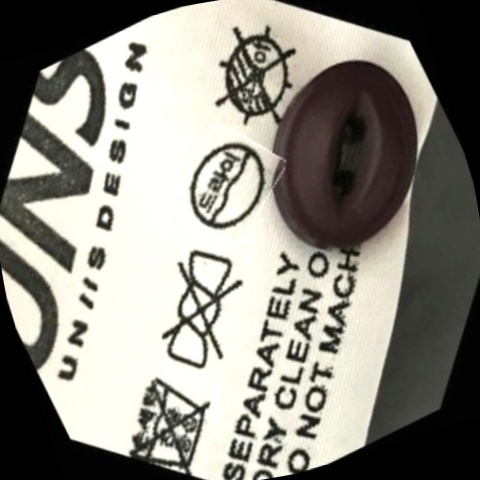DN_dry: (188, 8, 324, 145)
DN_wring: (126, 235, 279, 388)
dry_clean: (167, 122, 291, 249)
hand_wash: (103, 351, 234, 480)
